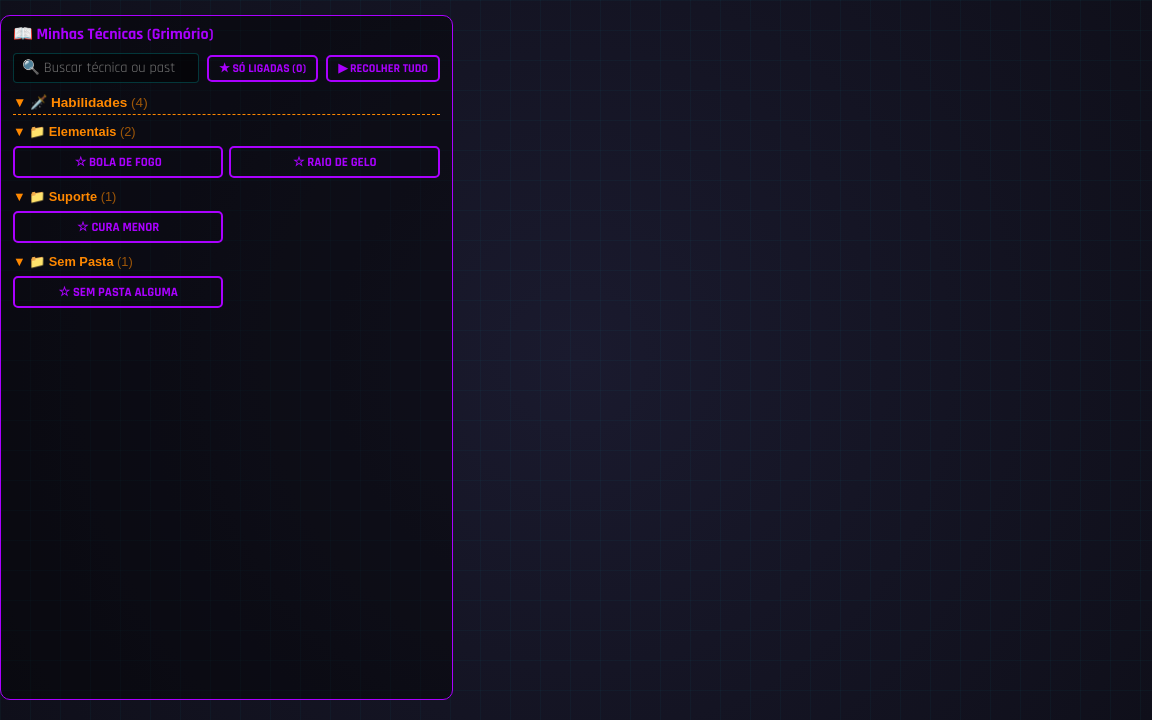
Scenario: MapaTecnicasRapidas - busca › sem resultados mostra "Nenhuma técnica com esse nome." e nenhum chip
Type "zzzz" into the search field labelled "Buscar técnica" at (106, 68), box left=13, top=53, right=199, bottom=83
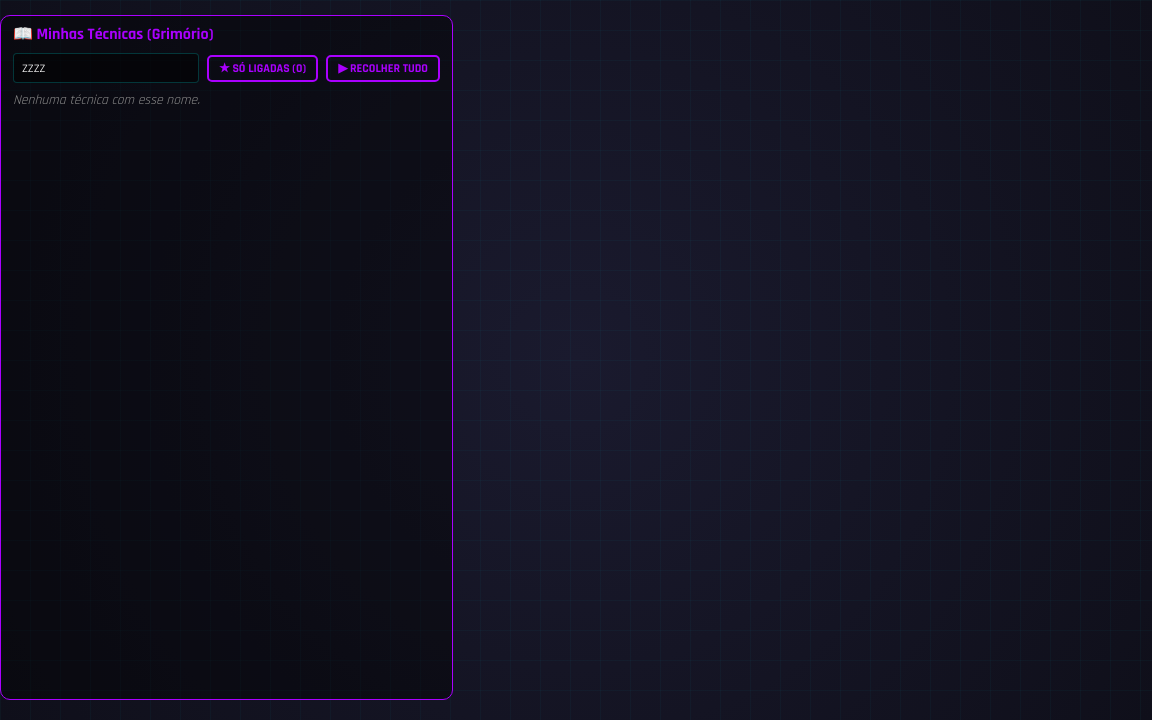
Expected: the text "Nenhuma técnica com esse nome." is shown, left=13, top=91, right=200, bottom=109
